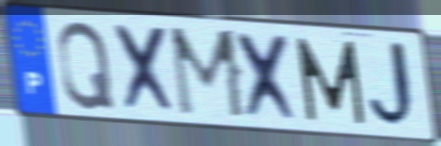J: (366, 39, 424, 132)
M: (166, 24, 250, 123), (292, 34, 369, 127)
Q: (55, 18, 118, 112)
X: (232, 29, 304, 126), (111, 21, 181, 118)
